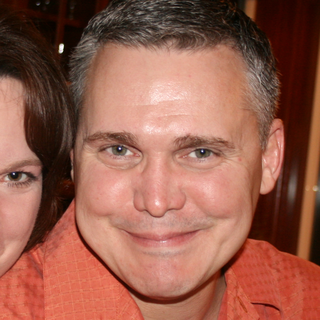eye: (177, 141, 226, 165), (97, 139, 144, 164), (1, 164, 36, 190)
